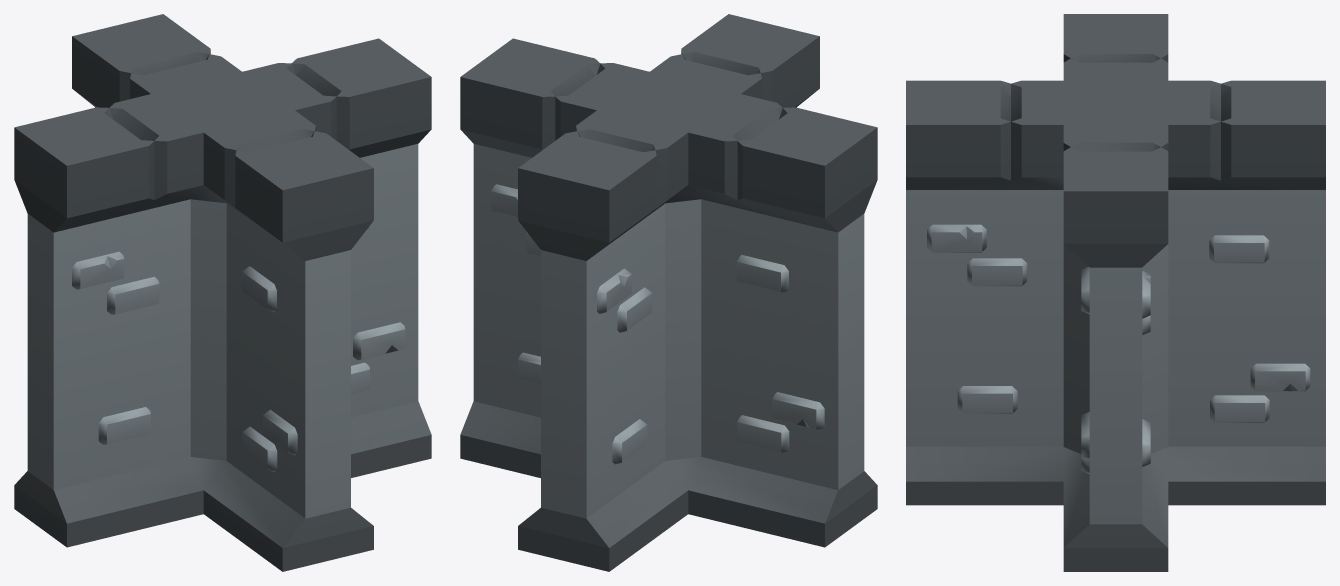
The model's file is wall_crossing.gltf.
The picture shows the model from 3 angles, left to right: view 1: azimuth 30°, elevation 25°; view 2: azimuth 150°, elevation 25°; view 3: azimuth 270°, elevation 25°; orthographic projection.
Parts seen in each view (by area): view 1: wall_crossing; view 2: wall_crossing; view 3: wall_crossing.
Part boxes in pixels (box(x1,y1,x2,y2)): wall_crossing: box(14, 14, 431, 571); wall_crossing: box(460, 14, 877, 571); wall_crossing: box(906, 14, 1325, 571).
Size of the model in its own units: 4 by 4 by 4.
Materials: 1 (1 with a texture image).
